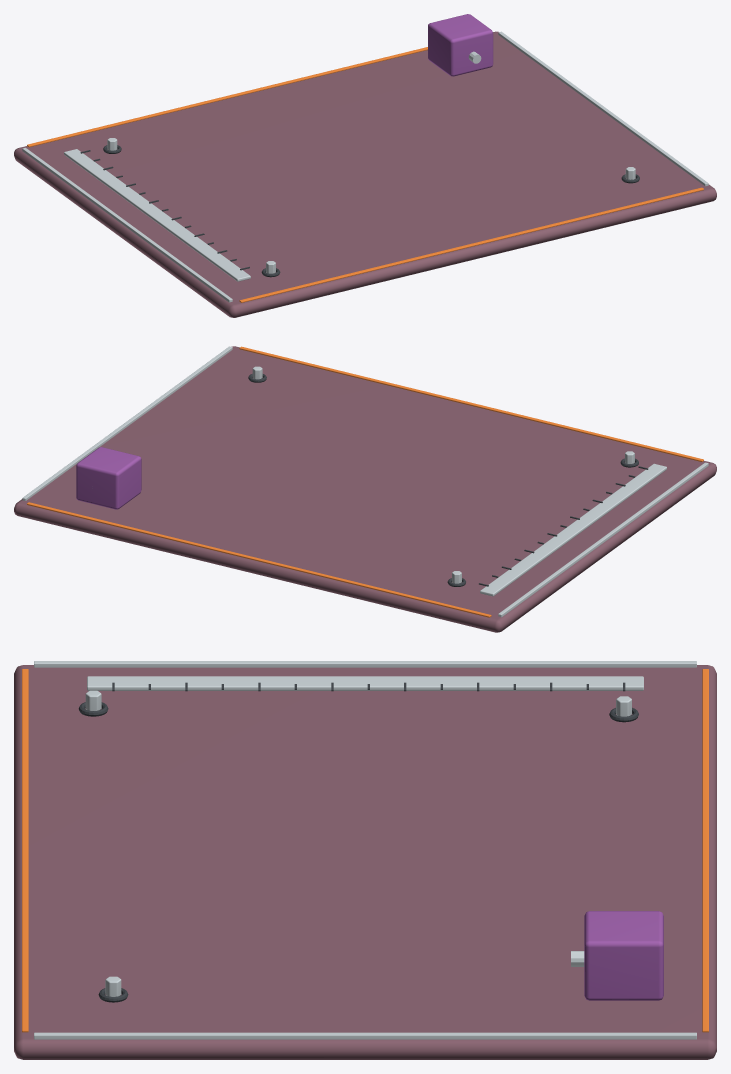
The model's file is arena-workbench.glb.
3 renders of one model, top to bottom at view 1: azimuth 30°, elevation 25°; view 2: azimuth 150°, elevation 25°; view 3: azimuth 270°, elevation 25°, orthographic. The views are drawn at different scales.
Parts seen in each view (by area): view 1: Arena slab, Bench vise, Giant ruler, Orange safety edge, Orange safety edge.001, Aluminium edge, Aluminium edge.001; view 2: Arena slab, Bench vise, Giant ruler, Orange safety edge.001, Orange safety edge, Aluminium edge, Aluminium edge.001; view 3: Arena slab, Giant ruler, Bench vise, Aluminium edge.001, Aluminium edge, Orange safety edge, Orange safety edge.001.
Boxes of the visible parts, x1,y1,x2,y2 form: Arena slab: (14,31,716,317); Bench vise: (428,14,493,76); Giant ruler: (64,149,250,281); Orange safety edge: (239,187,703,302); Orange safety edge.001: (27,47,427,147); Aluminium edge: (22,147,232,302); Aluminium edge.001: (498,31,708,186); Arena slab: (14,346,716,632); Bench vise: (76,447,141,509); Giant ruler: (480,463,666,596); Orange safety edge.001: (27,502,491,617); Orange safety edge: (239,346,703,461); Aluminium edge: (498,462,708,617); Aluminium edge.001: (22,346,232,500); Arena slab: (14,665,716,1059); Giant ruler: (87,676,643,690); Bench vise: (584,911,663,1000); Aluminium edge.001: (34,1032,696,1039); Aluminium edge: (34,661,696,667); Orange safety edge: (22,669,28,1032); Orange safety edge.001: (702,669,708,1032).
Size of the model in its own units: 13.6 by 1.41 by 10.6.
